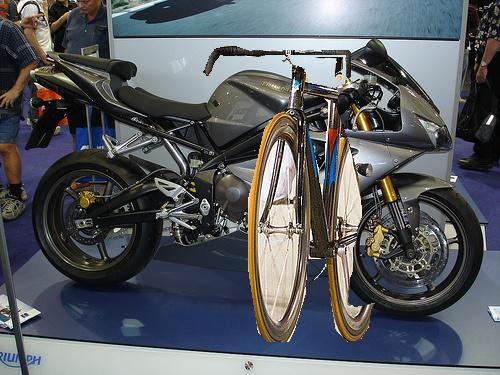tampered: (204, 47, 375, 342)
